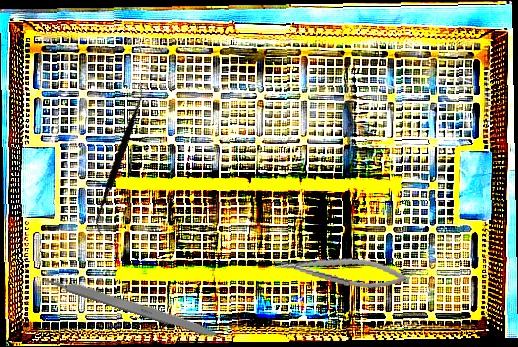Needle Holder: (271, 245, 412, 296)
Scalpel Handle: (41, 271, 225, 342)
Spatula Surgical: (65, 82, 176, 236)
